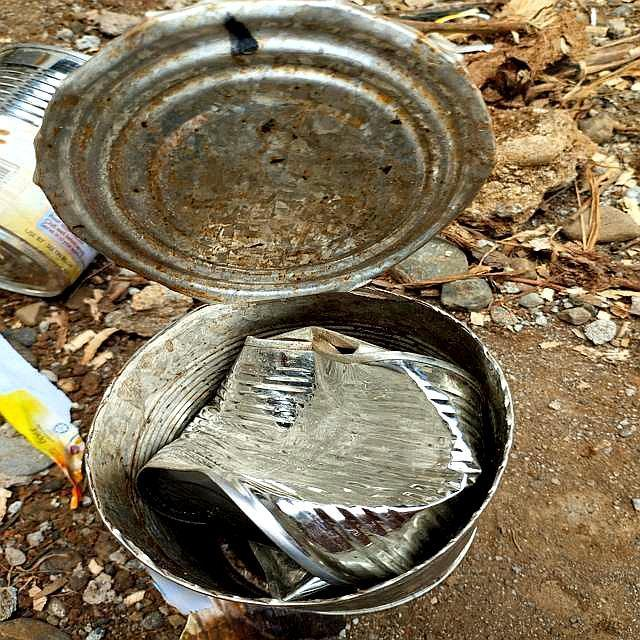Non-biodegradable: (34, 1, 522, 617), (1, 42, 146, 303)
